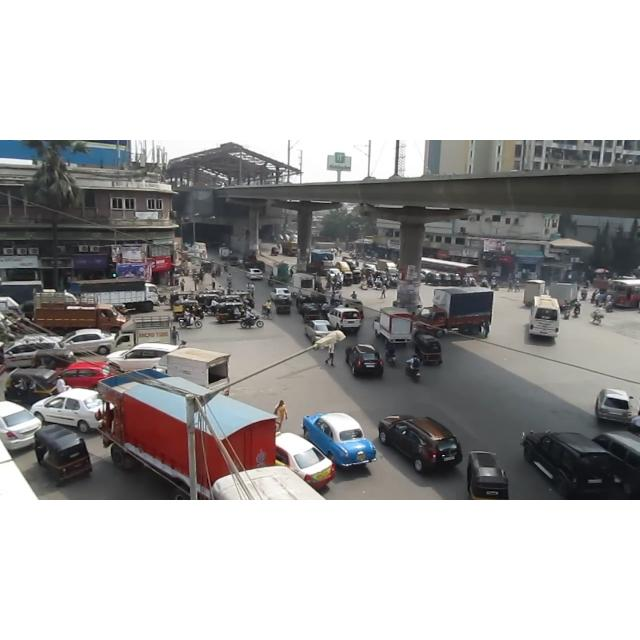car: (69, 278, 159, 312)
truck: (96, 369, 276, 499), (414, 287, 494, 337), (33, 293, 127, 335), (154, 347, 230, 395), (114, 315, 172, 351), (373, 307, 413, 343), (0, 280, 44, 304), (305, 250, 333, 278), (288, 272, 316, 296), (548, 282, 578, 304), (523, 279, 545, 307), (0, 296, 20, 314), (377, 259, 399, 275), (282, 240, 298, 256), (218, 247, 231, 261)
